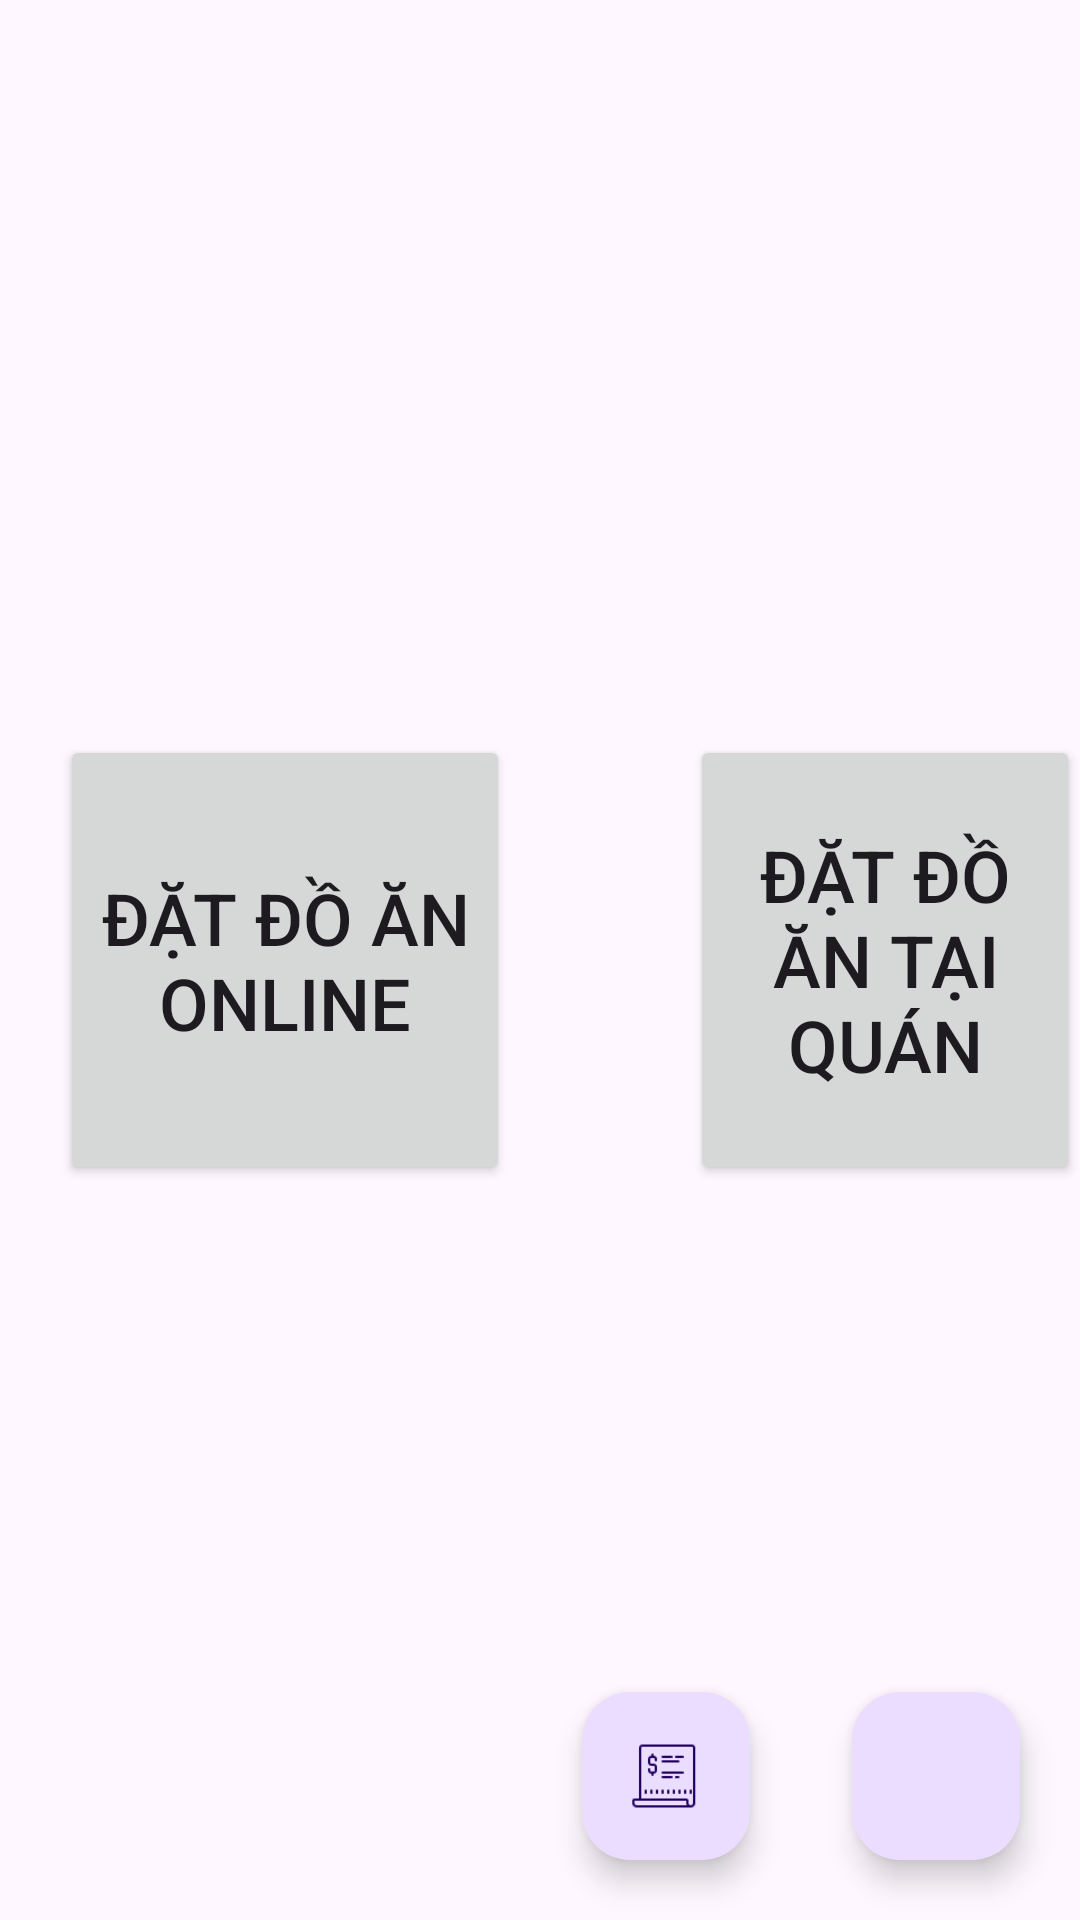

Icon click points for this 1080px x 1920px phone screenshot, format point (x, y):
order: point (666, 1776)
